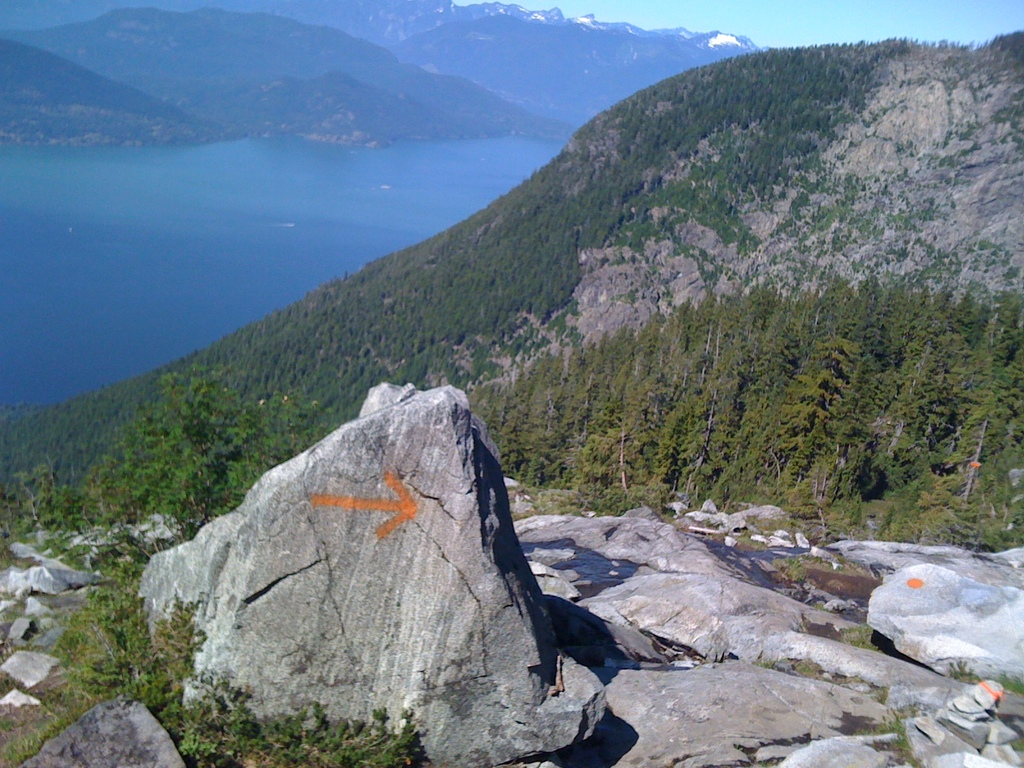Tree: (462, 263, 1023, 537), (81, 359, 324, 529)
